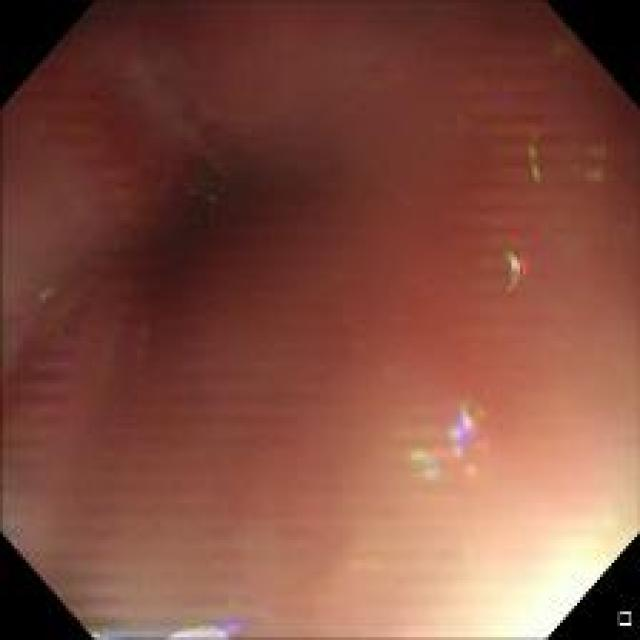color misalignment: (11, 269, 91, 486), (69, 62, 146, 236), (400, 400, 496, 485), (91, 610, 245, 636), (501, 234, 536, 302), (521, 125, 549, 185), (484, 81, 520, 112)
saturation: (439, 510, 630, 636)
